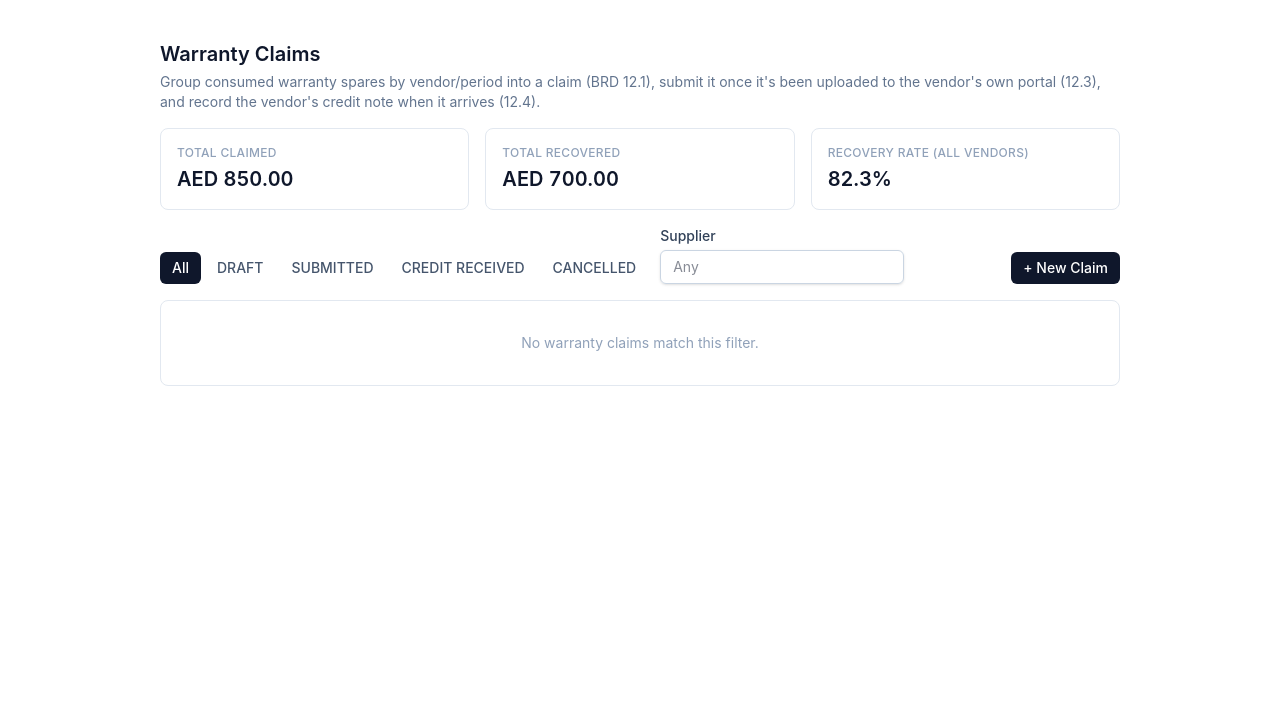
Test: WarrantyClaimsPage - aggregate (create) form › generates a claim and navigates ?claimId= to the new claim
The width and height of the screenshot is (1280, 720).
Expected: the text "No warranty claims match this filter." is shown, [160,300,1120,386]
Click the button "+ New Claim" at (1066, 268), box [1011,252,1120,284]
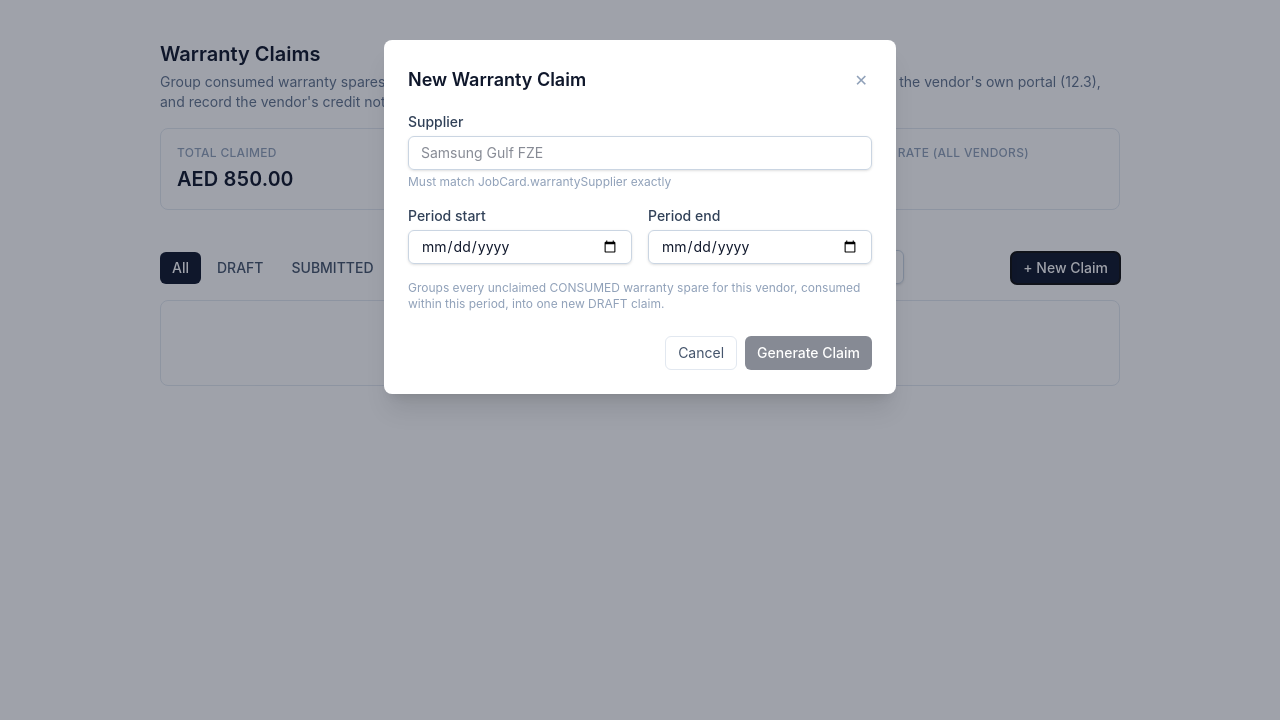
Type "LG Gulf" into the field labelled "Supplier Must match JobCard.warrantySupplier exactly" at (640, 153), box [408,136,872,170]
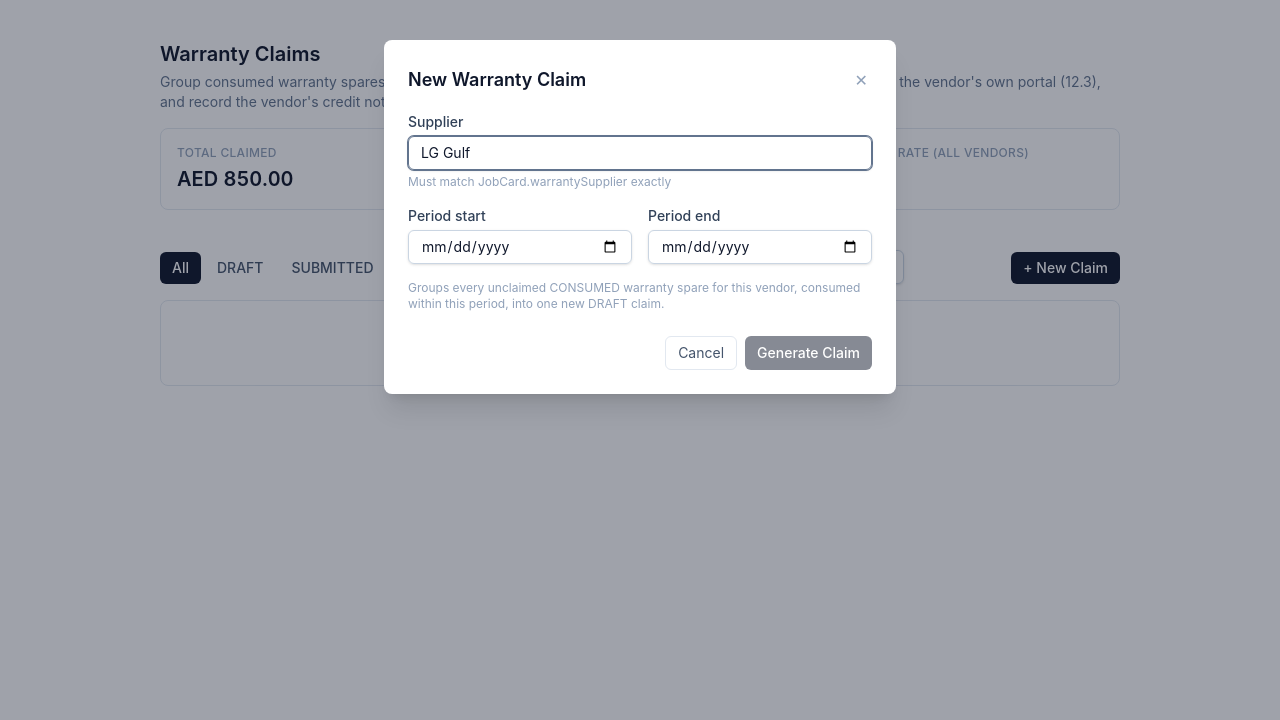
Type "2026-08-01" into the date field labelled "Period start" at (520, 247), box [408,230,632,264]
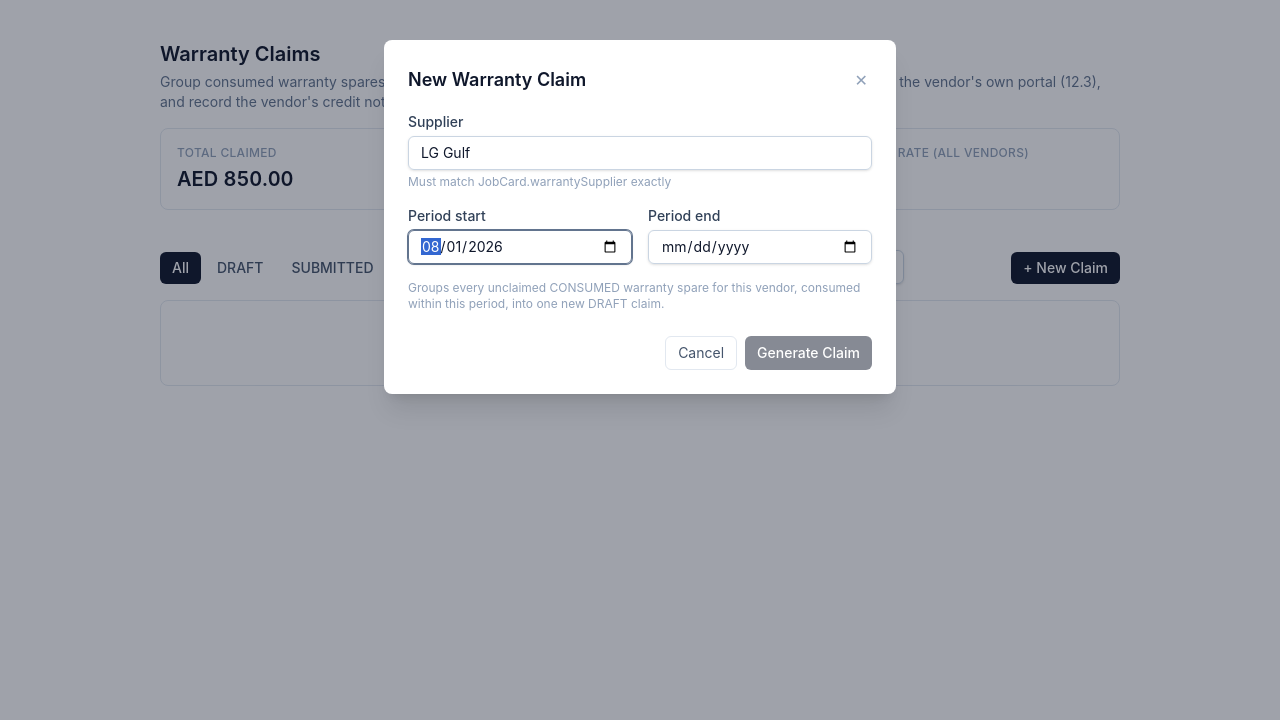
Type "2026-08-31" into the date field labelled "Period end" at (760, 247), box [648,230,872,264]
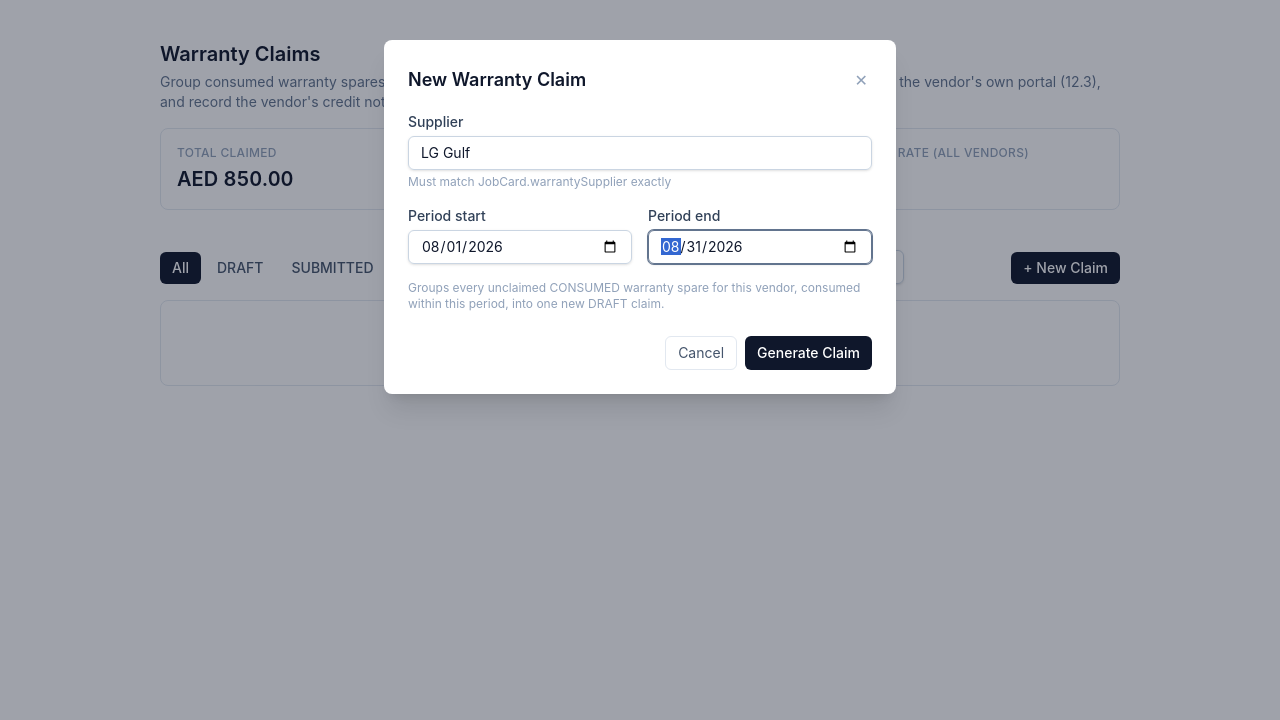
Click the button "Generate Claim" at (809, 353), box [745,336,872,370]
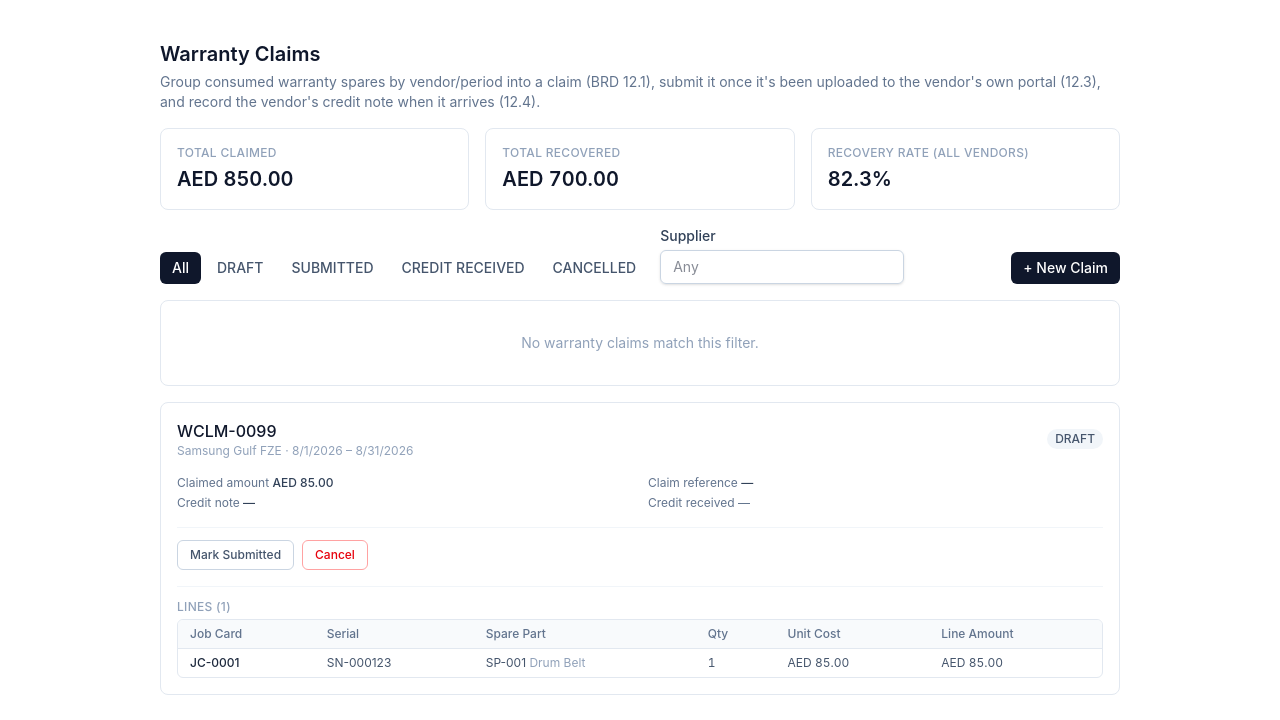
Result: the text "WCLM-0099" is shown at [177,421,276,441]
